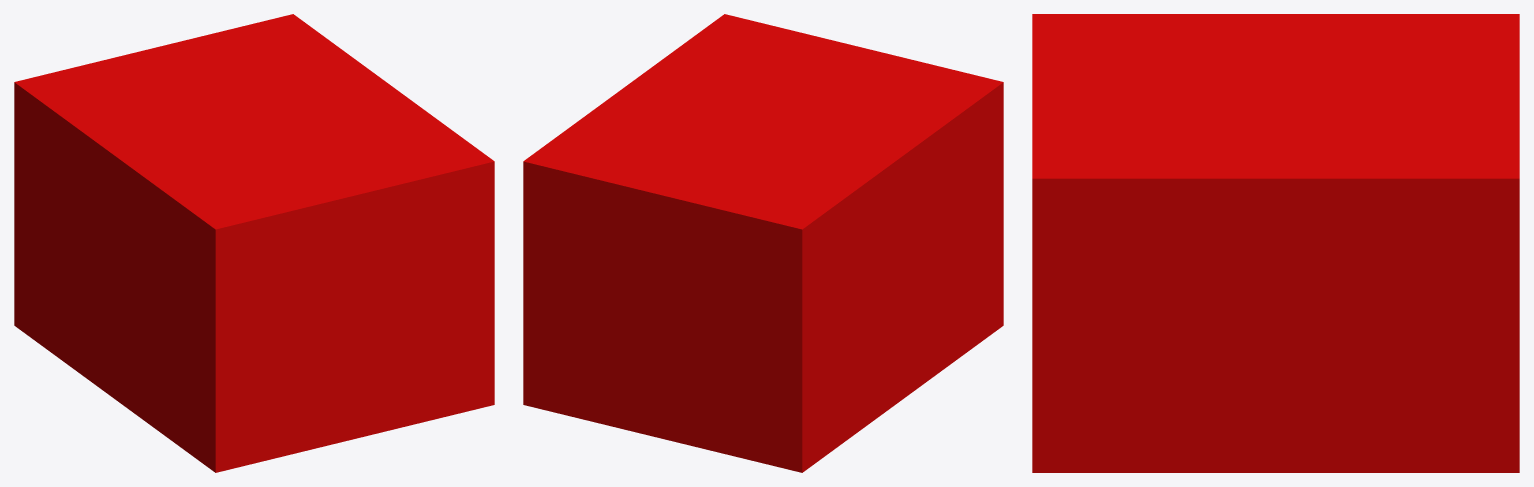
Rendered from points-6.fbx.
3 renders of one model, left to right at view 1: azimuth 30°, elevation 25°; view 2: azimuth 150°, elevation 25°; view 3: azimuth 270°, elevation 25°, orthographic. The views are drawn at different scales.
Visible parts, largest first — view 1: Cube.014; view 2: Cube.014; view 3: Cube.014.
Part boxes in pixels (x1,y1,x2,y2): Cube.014: (14, 14, 494, 472); Cube.014: (523, 14, 1003, 472); Cube.014: (1032, 14, 1519, 472).
Bounding box in the file's own units: 240 × 200 × 300.
